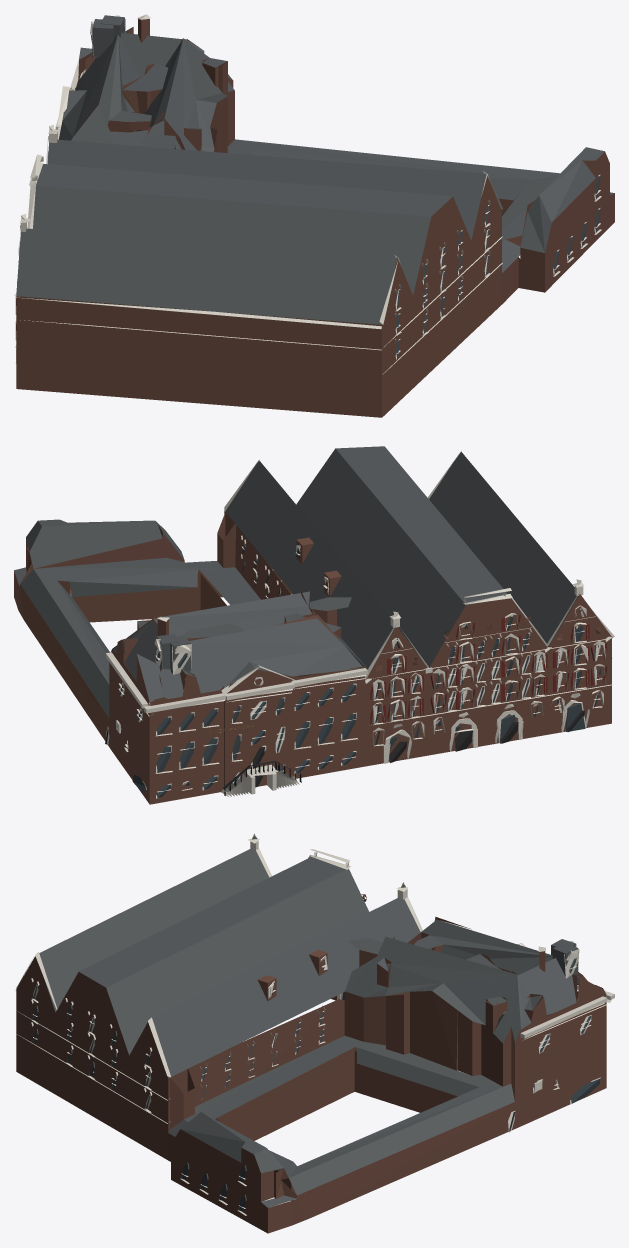
Rendered from academie-van-bouwkunst.lod1.glb.
3 renders of one model, top to bottom at view 1: azimuth 30°, elevation 25°; view 2: azimuth 150°, elevation 25°; view 3: azimuth 270°, elevation 25°, orthographic. The views are drawn at different scales.
Visible parts, largest first — view 1: academie-van-bouwkunst; view 2: academie-van-bouwkunst; view 3: academie-van-bouwkunst.
Boxes of the visible parts, x1,y1,x2,y2 form: academie-van-bouwkunst: [14, 14, 614, 417]; academie-van-bouwkunst: [14, 446, 614, 804]; academie-van-bouwkunst: [15, 833, 614, 1233].
Bounding box in the file's own units: 64.48 × 16.68 × 61.04.
